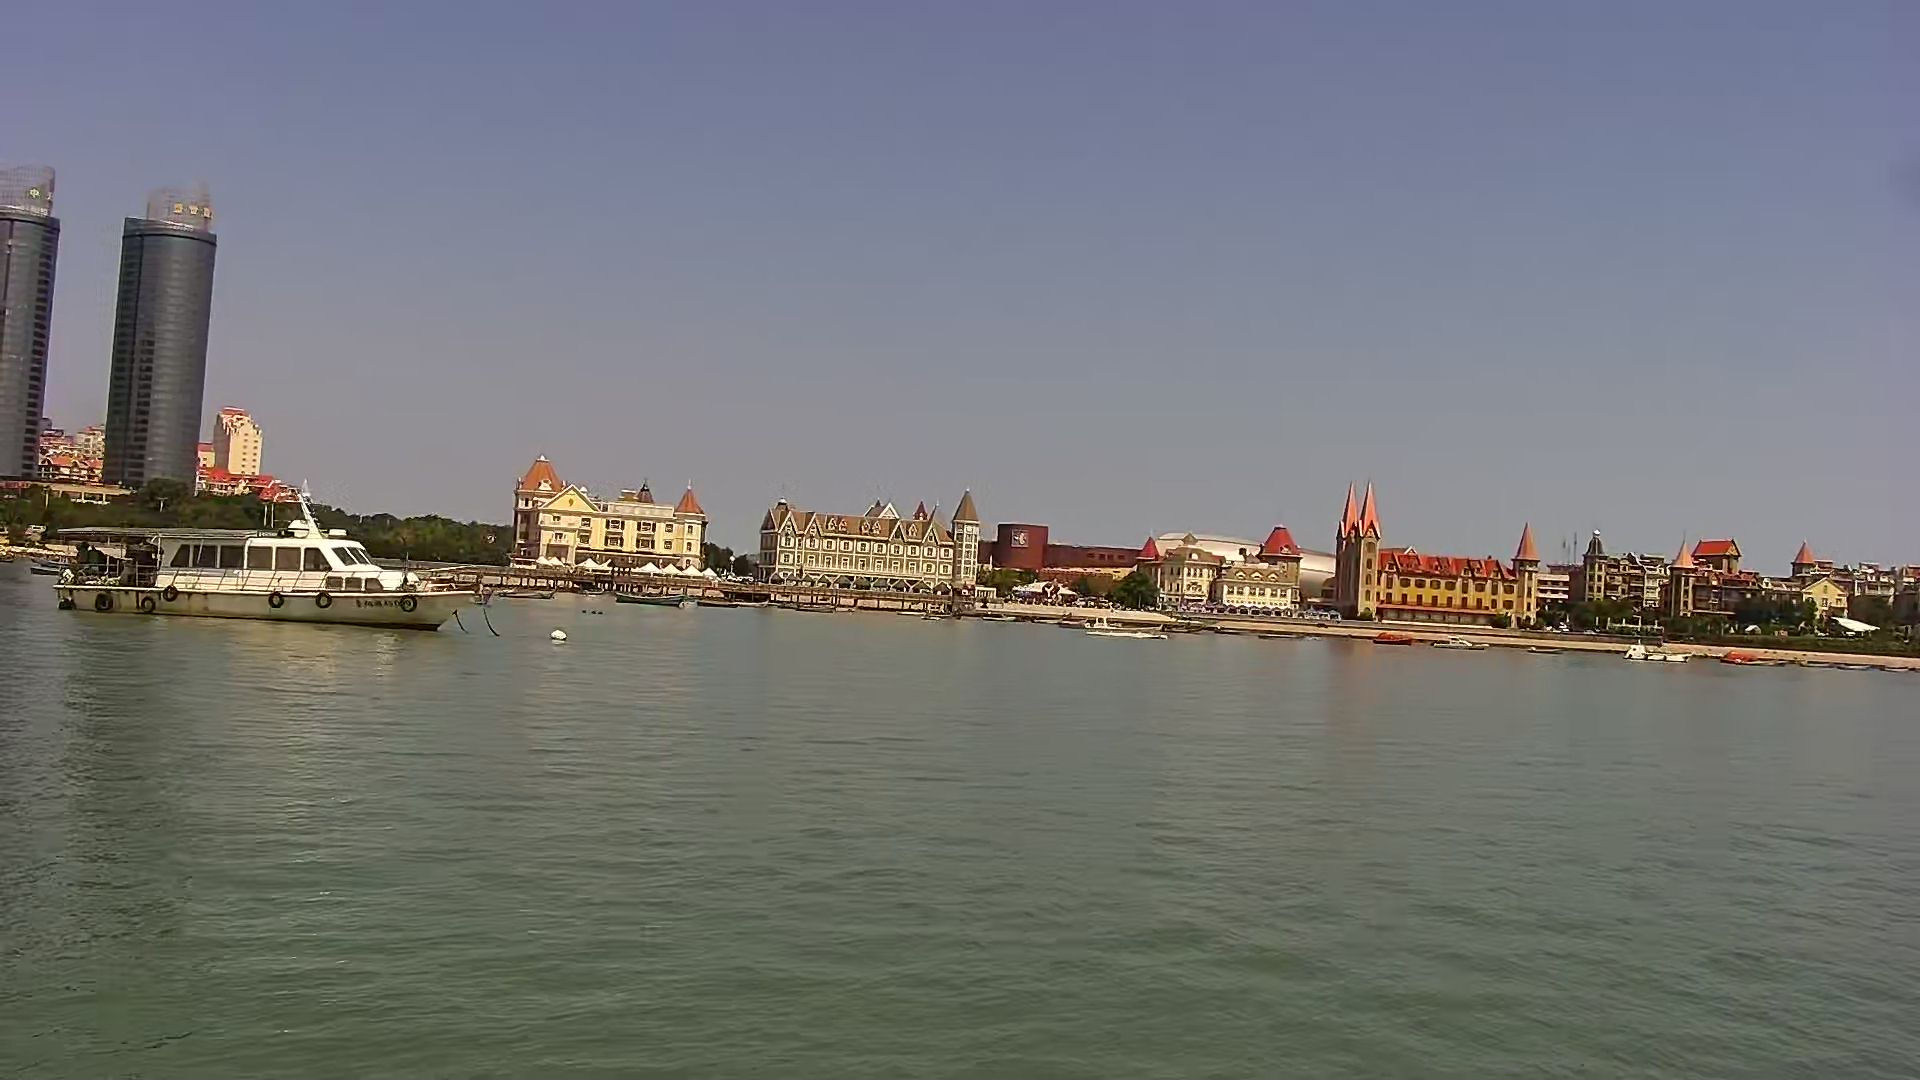ball: (549, 624, 568, 645)
ship: (54, 502, 485, 632)
